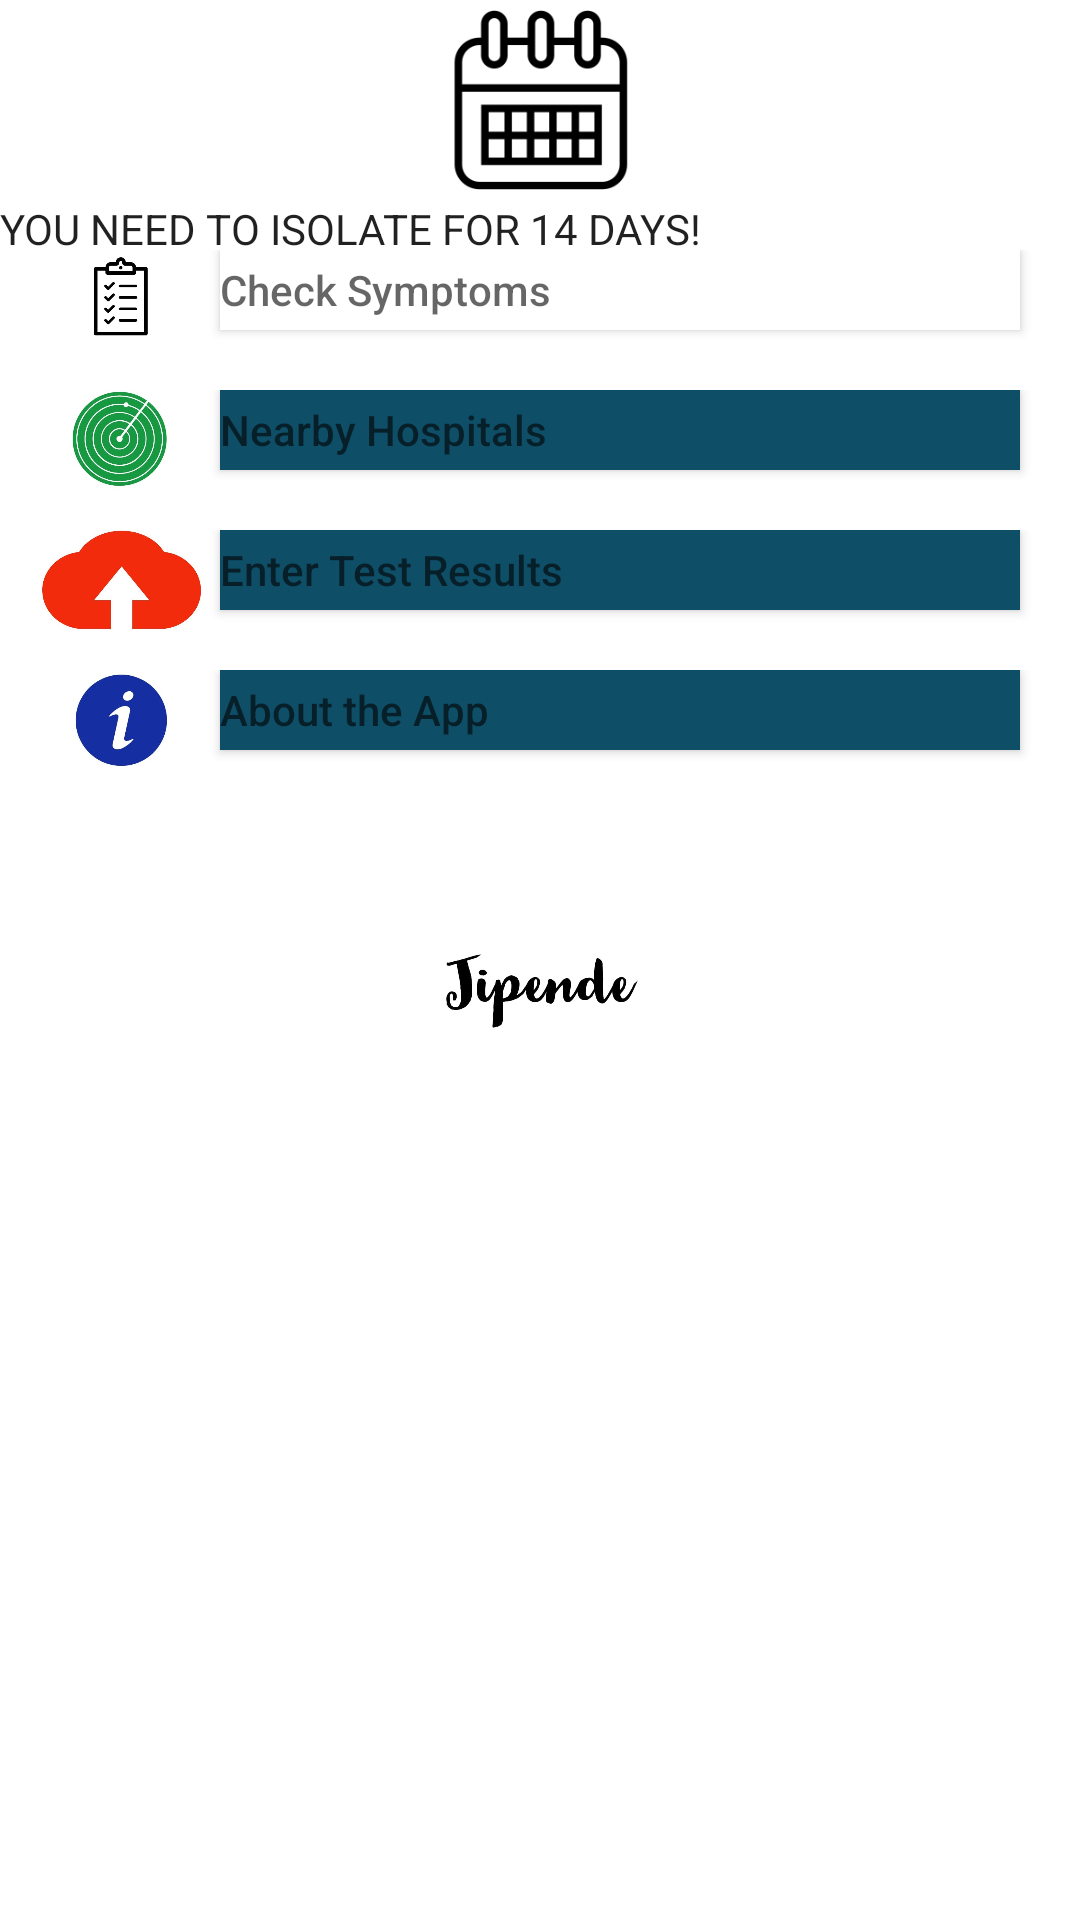

Locate icon controls on the screen. Image size 1080px×1920px, boxes as (x1, y1, x2, y2).
calendar: (454, 10, 628, 190)
